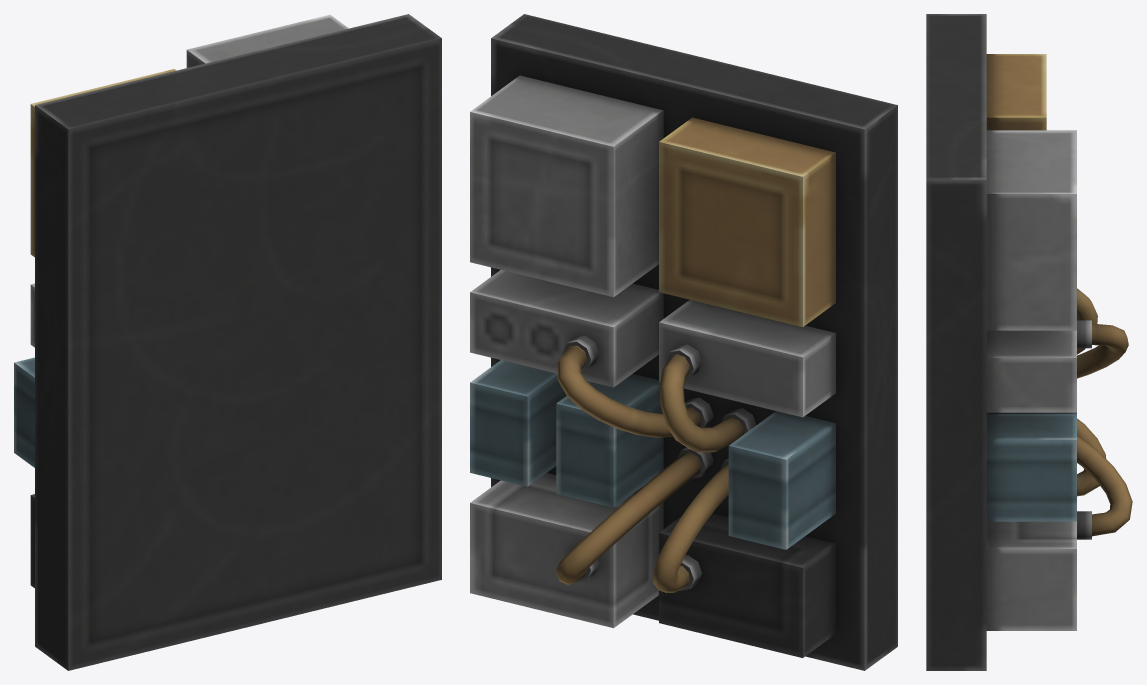
The model's file is 1f_sensor_array_srf_1.obj.
3 renders of one model, left to right at view 1: azimuth 30°, elevation 25°; view 2: azimuth 150°, elevation 25°; view 3: azimuth 270°, elevation 25°, orthographic. The views are drawn at different scales.
Visible parts, largest first — view 1: mesh1; view 2: mesh1; view 3: mesh1.
Boxes of the visible parts, x1,y1,x2,y2 form: mesh1: (14, 14, 441, 670); mesh1: (470, 14, 897, 670); mesh1: (926, 14, 1132, 670).
Bounding box in the file's own units: 0.325 × 0.45 × 0.1712.
Materials: 1 (1 with a texture image).
